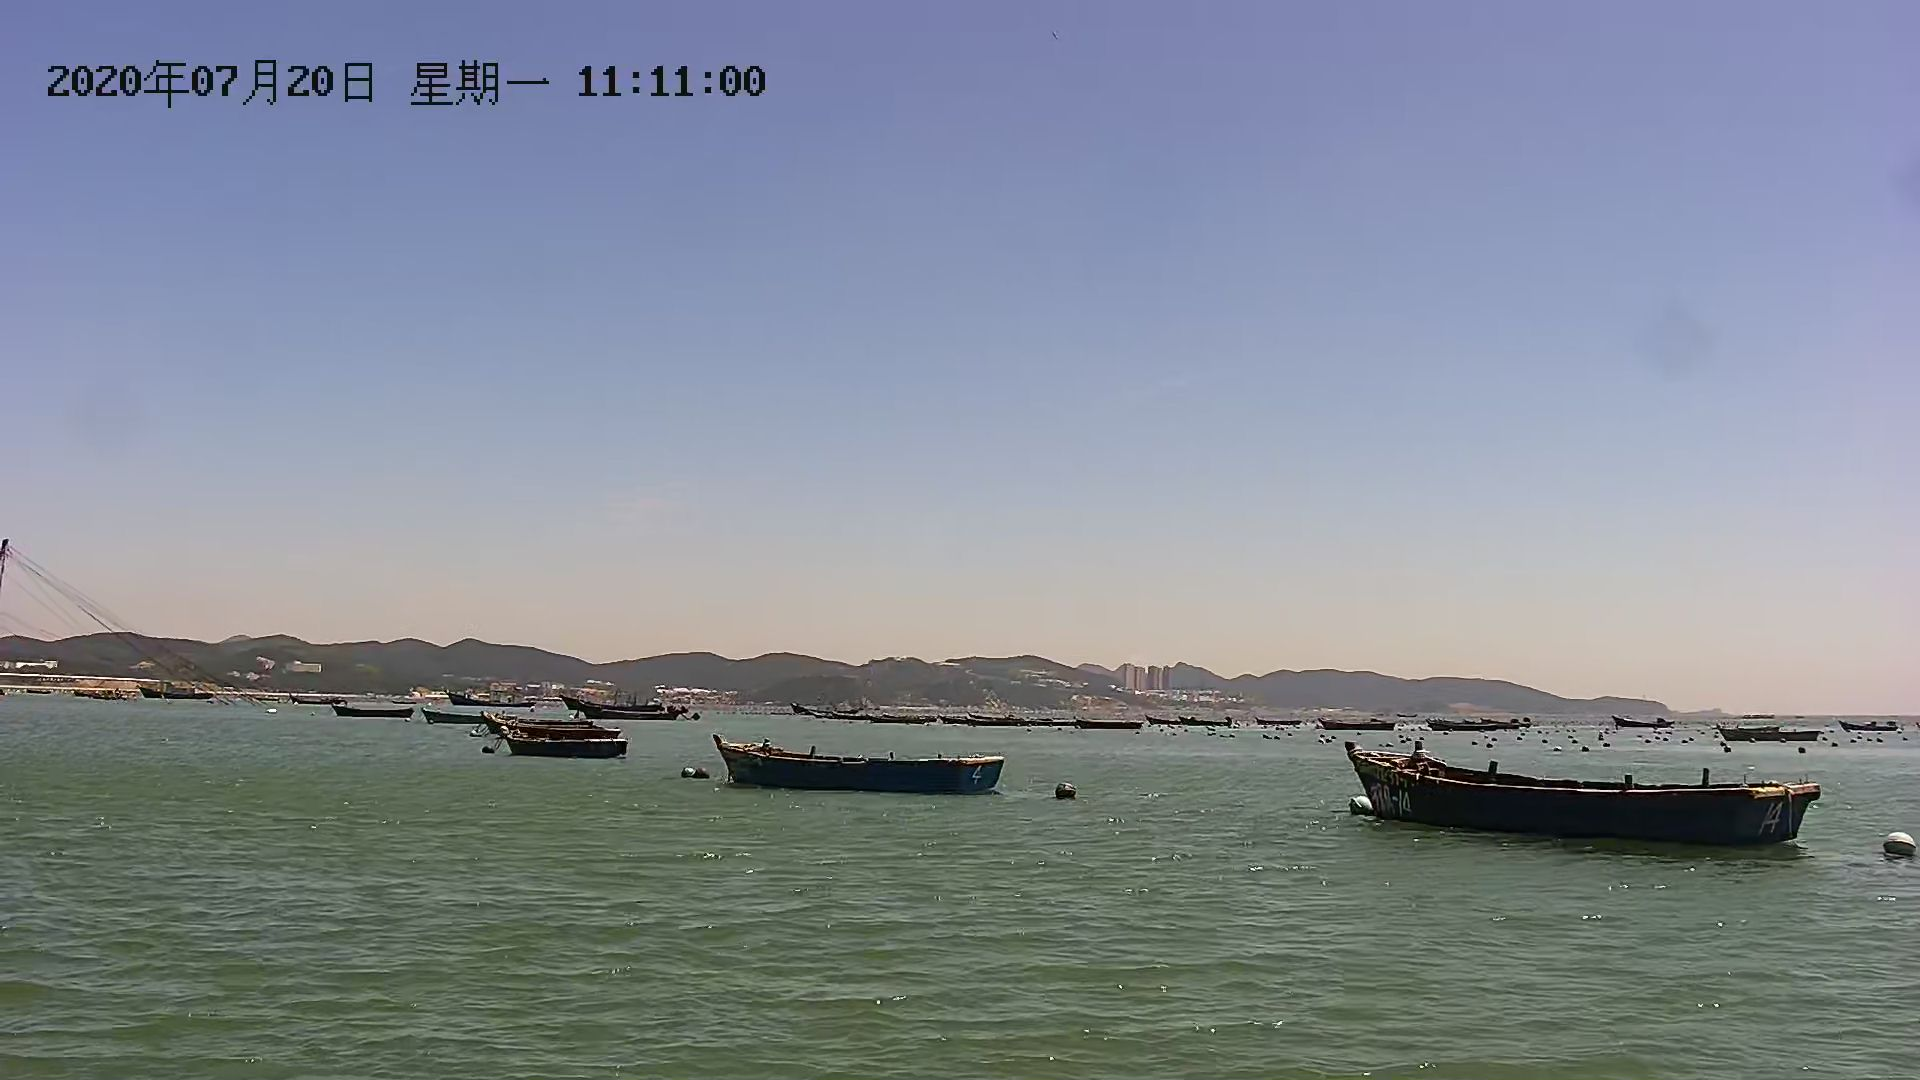ball: (1876, 827, 1920, 860), (1342, 795, 1379, 822), (1055, 781, 1088, 804), (673, 764, 715, 782)
boat: (1333, 731, 1822, 851), (721, 736, 1002, 794), (484, 713, 632, 765), (326, 702, 419, 728), (429, 702, 512, 725)
